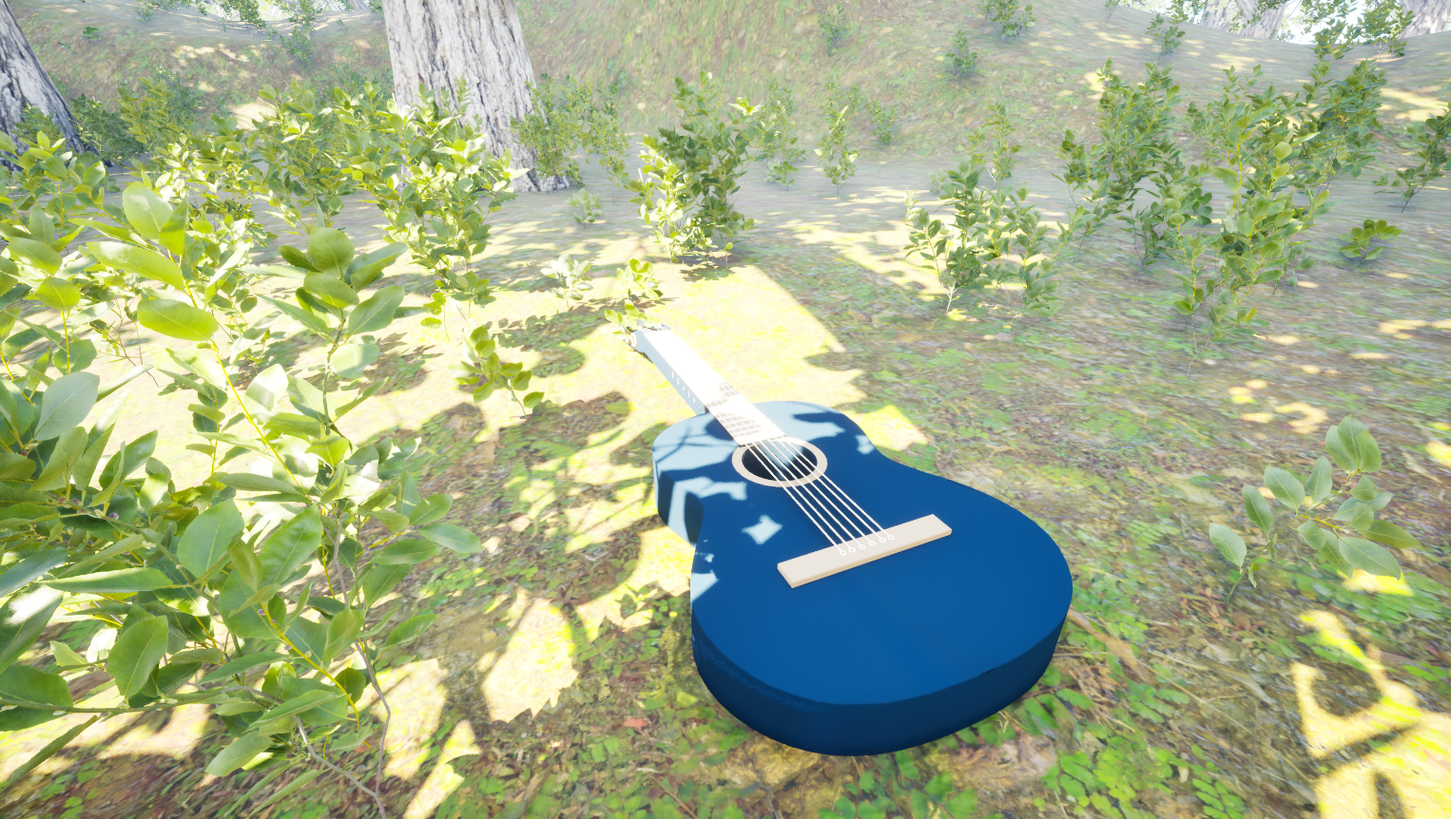Guitar: (538, 296, 1149, 819)
